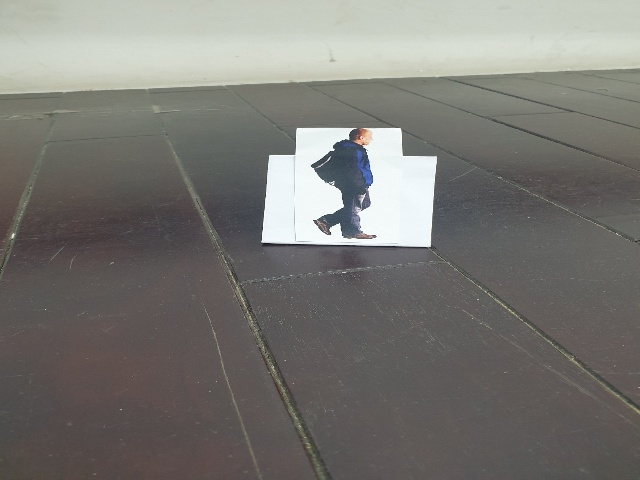Person: (299, 126, 395, 244)
